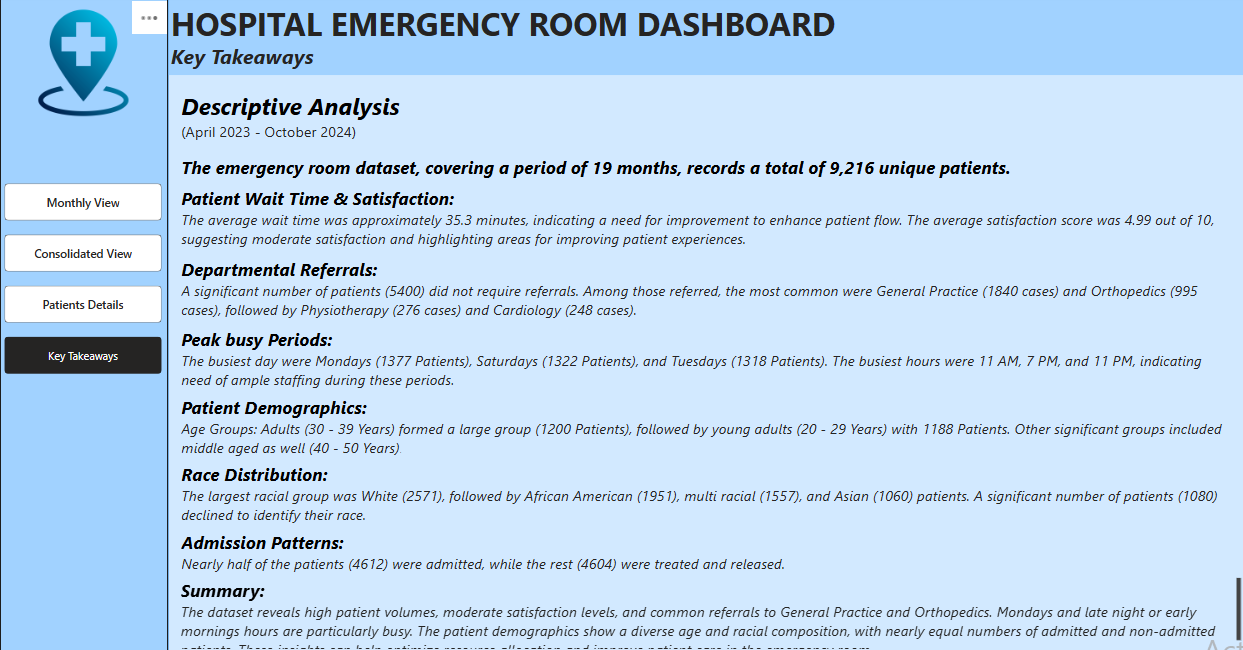

This screenshot's page, from the dashboard's own definition file:
{"tool":"powerbi","page":{"name":"Key Takeaways","canvas":[2300,1200],"ordinal":3},"visuals":[{"type":"shape","box":[10.2,0,310,1399],"z":0},{"type":"shape","box":[318.9,0,1980.9,140],"z":1000},{"type":"textbox","box":[318.9,0,1298,99.8],"z":2000},{"type":"textbox","box":[320.3,74.5,378.2,63.5],"z":3000},{"type":"image","box":[46.9,13.8,234.7,207.1],"z":4000},{"type":"textbox","box":[339.6,162.9,1938.1,118.7],"z":5000},{"type":"textbox","box":[339.6,281.6,1938.1,58],"z":6000},{"type":"textbox","box":[339.6,339.6,1938.1,129.8],"z":7000},{"type":"textbox","box":[339.6,469.3,1938.1,129.8],"z":8000},{"type":"textbox","box":[339.6,599.1,1938.1,124.2],"z":9000},{"type":"textbox","box":[339.6,723.3,1938.1,124.2],"z":10000},{"type":"textbox","box":[339.6,847.6,1938.1,124.2],"z":11000},{"type":"textbox","box":[339.6,971.8,1938.1,88.3],"z":12000},{"type":"textbox","box":[339.6,1060.1,1960.2,140.8],"z":13000},{"type":"pageNavigator","box":[19.3,339.6,289.9,350.6],"z":14000}]}

Visuals, with their boxes on the page's 2300x1200 design canvas (x1, y1, x2, y2). These are canvas units, not pixel positions in the 1243x650 screenshot, which may show the page scaled, cropped or inside an application window:
shape: x1=10, y1=0, x2=320, y2=1399
shape: x1=319, y1=0, x2=2300, y2=140
textbox: x1=319, y1=0, x2=1617, y2=100
textbox: x1=320, y1=74, x2=698, y2=138
image: x1=47, y1=14, x2=282, y2=221
textbox: x1=340, y1=163, x2=2278, y2=282
textbox: x1=340, y1=282, x2=2278, y2=340
textbox: x1=340, y1=340, x2=2278, y2=469
textbox: x1=340, y1=469, x2=2278, y2=599
textbox: x1=340, y1=599, x2=2278, y2=723
textbox: x1=340, y1=723, x2=2278, y2=848
textbox: x1=340, y1=848, x2=2278, y2=972
textbox: x1=340, y1=972, x2=2278, y2=1060
textbox: x1=340, y1=1060, x2=2300, y2=1201
pageNavigator: x1=19, y1=340, x2=309, y2=690
